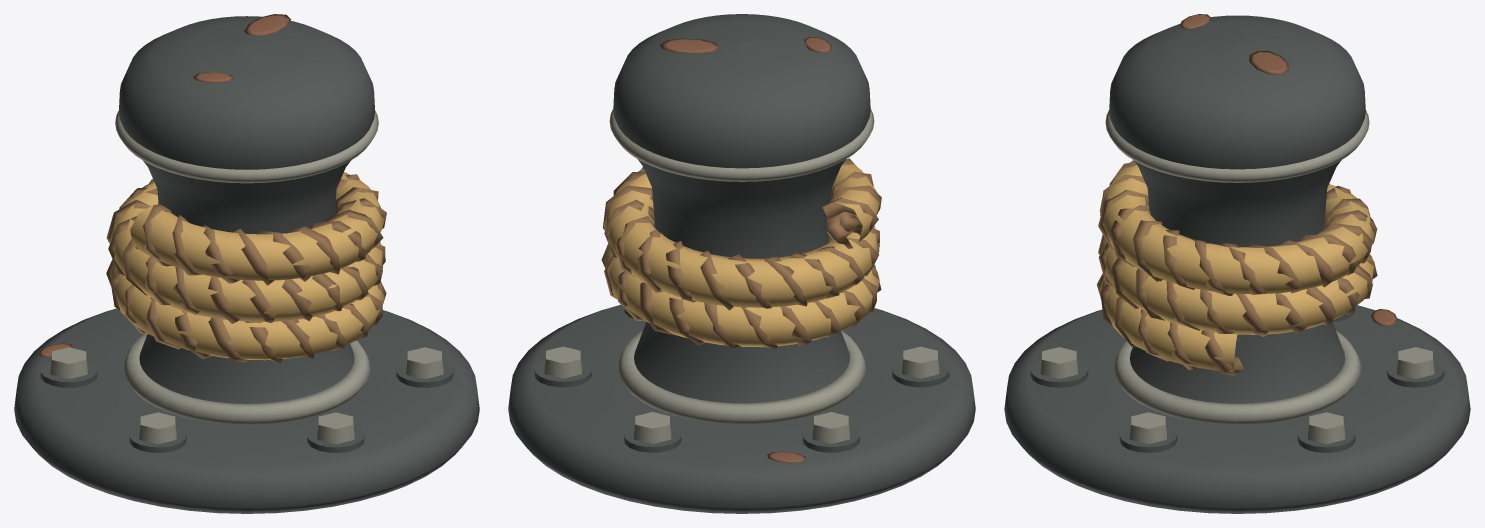
File: detail_mooring_bollard.glb
3 renders of one model, left to right at view 1: azimuth 30°, elevation 25°; view 2: azimuth 150°, elevation 25°; view 3: azimuth 270°, elevation 25°, orthographic.
Parts seen in each view (by area): view 1: metal, cloth; view 2: metal, cloth; view 3: metal, cloth.
Boxes of the visible parts, x1,y1,x2,y2 form: metal: [14, 14, 479, 513]; cloth: [106, 172, 386, 363]; metal: [508, 14, 975, 513]; cloth: [601, 158, 881, 348]; metal: [1004, 14, 1470, 513]; cloth: [1096, 160, 1377, 375].
Bounding box in the file's own units: 0.9 × 0.8 × 0.9.
